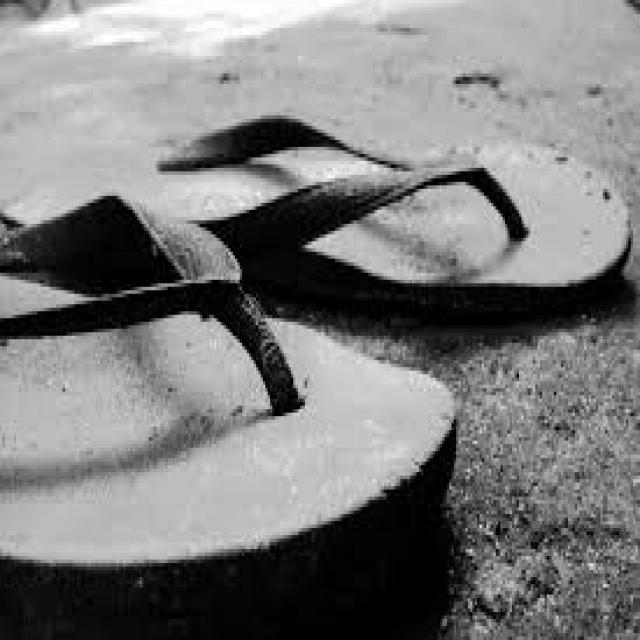other: (0, 196, 454, 565), (0, 115, 633, 317)
